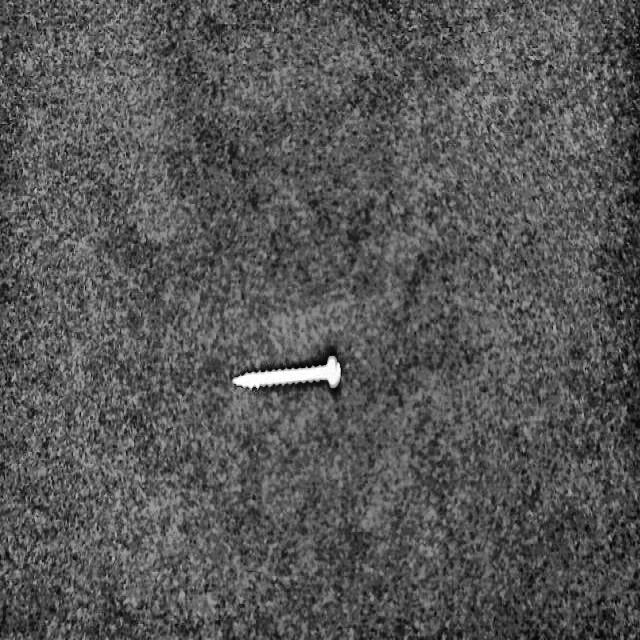Sheet metal screw: (231, 354, 341, 390)
